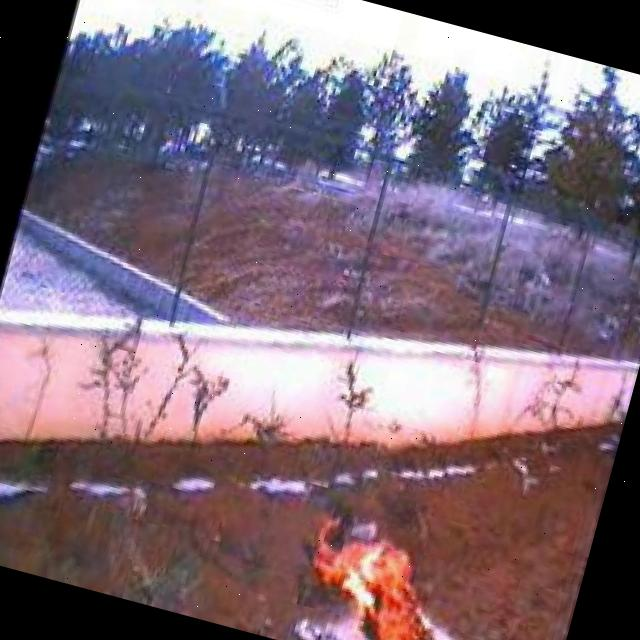fire: (285, 509, 462, 640)
